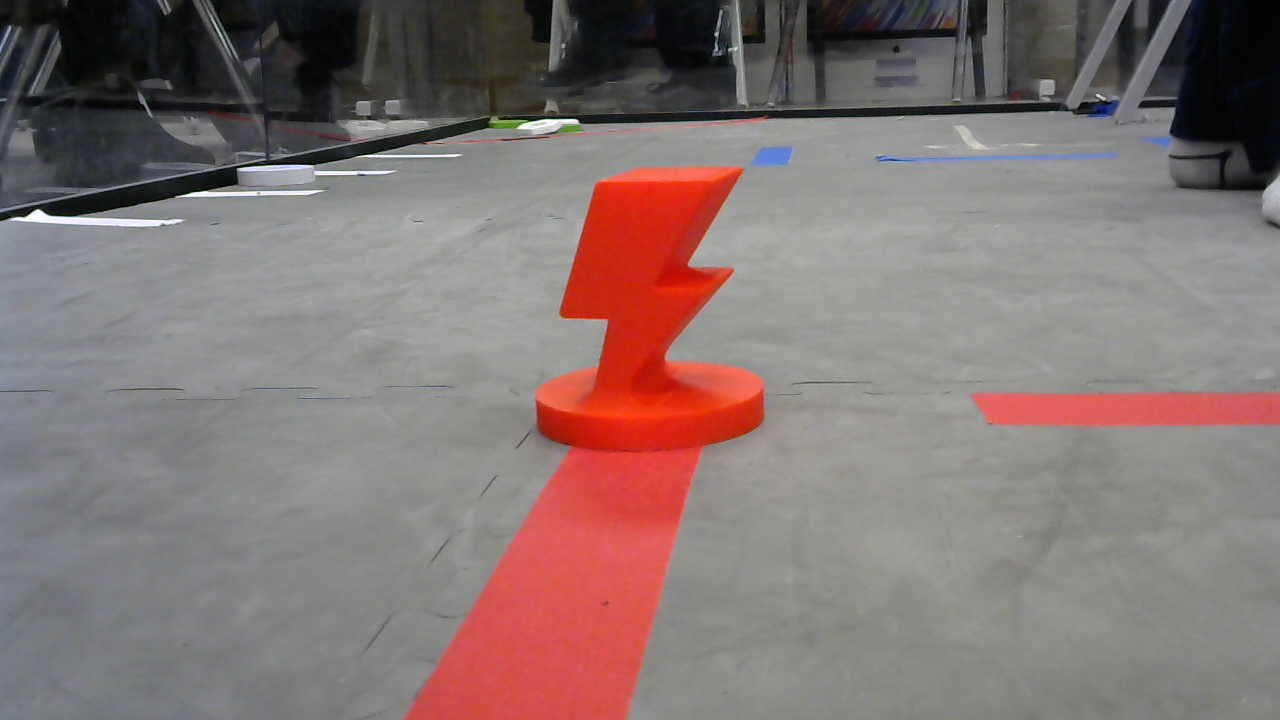redobject: (535, 166, 765, 450)
